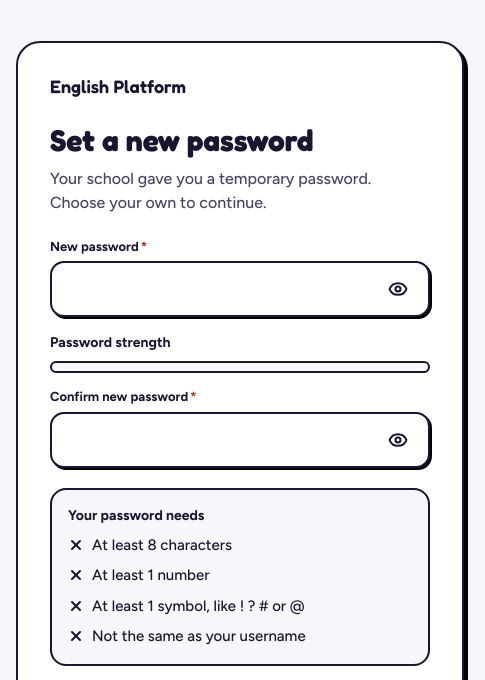
Test: SetNewPasswordPage › shows the failure message and keeps the form when saving fails
Type "abcdefg1!" into the password field labelled "New password*" at [218, 289], box x1=64 y1=263 x2=372 y2=315
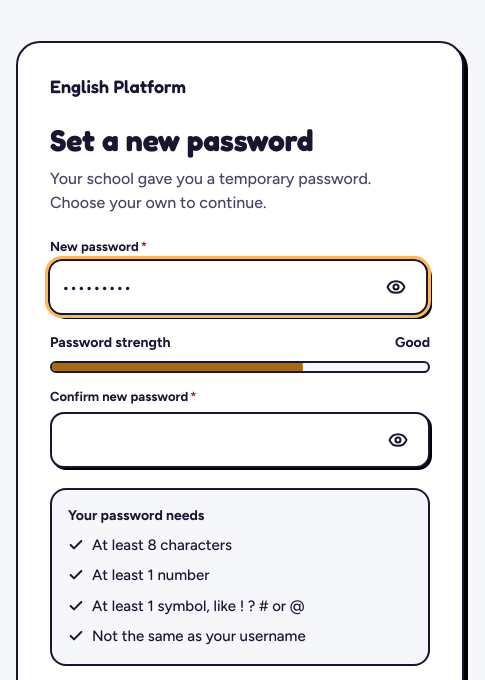
Type "abcdefg1!" into the password field labelled "Confirm new password*" at [218, 440], box x1=64 y1=414 x2=372 y2=466
(page scrolled)
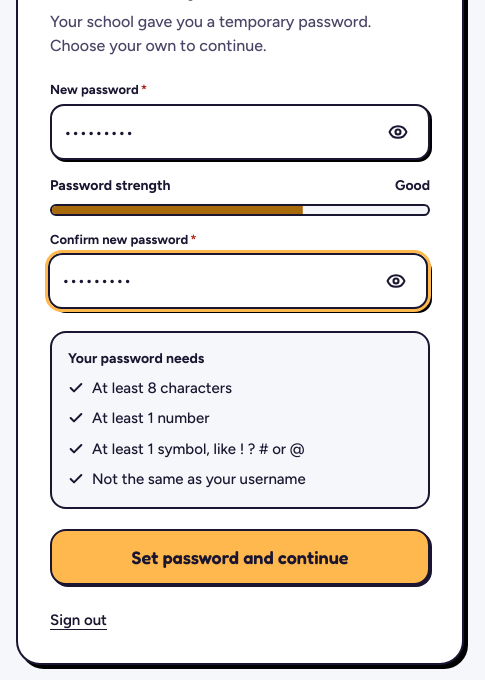
Click the button "Set password and continue" at [240, 556], box x1=50 y1=528 x2=430 y2=584
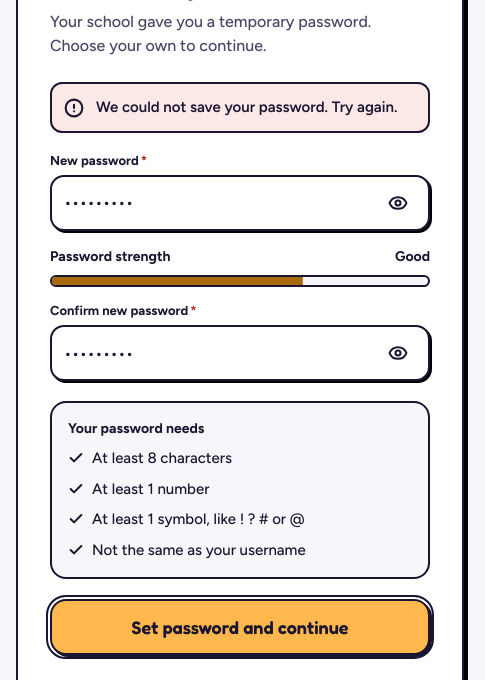
Expected: the button "Set password and continue" is shown, x1=50 y1=599 x2=430 y2=655
Expected: the text "We could not save your password. Try again." is shown, x1=96 y1=96 x2=397 y2=118
